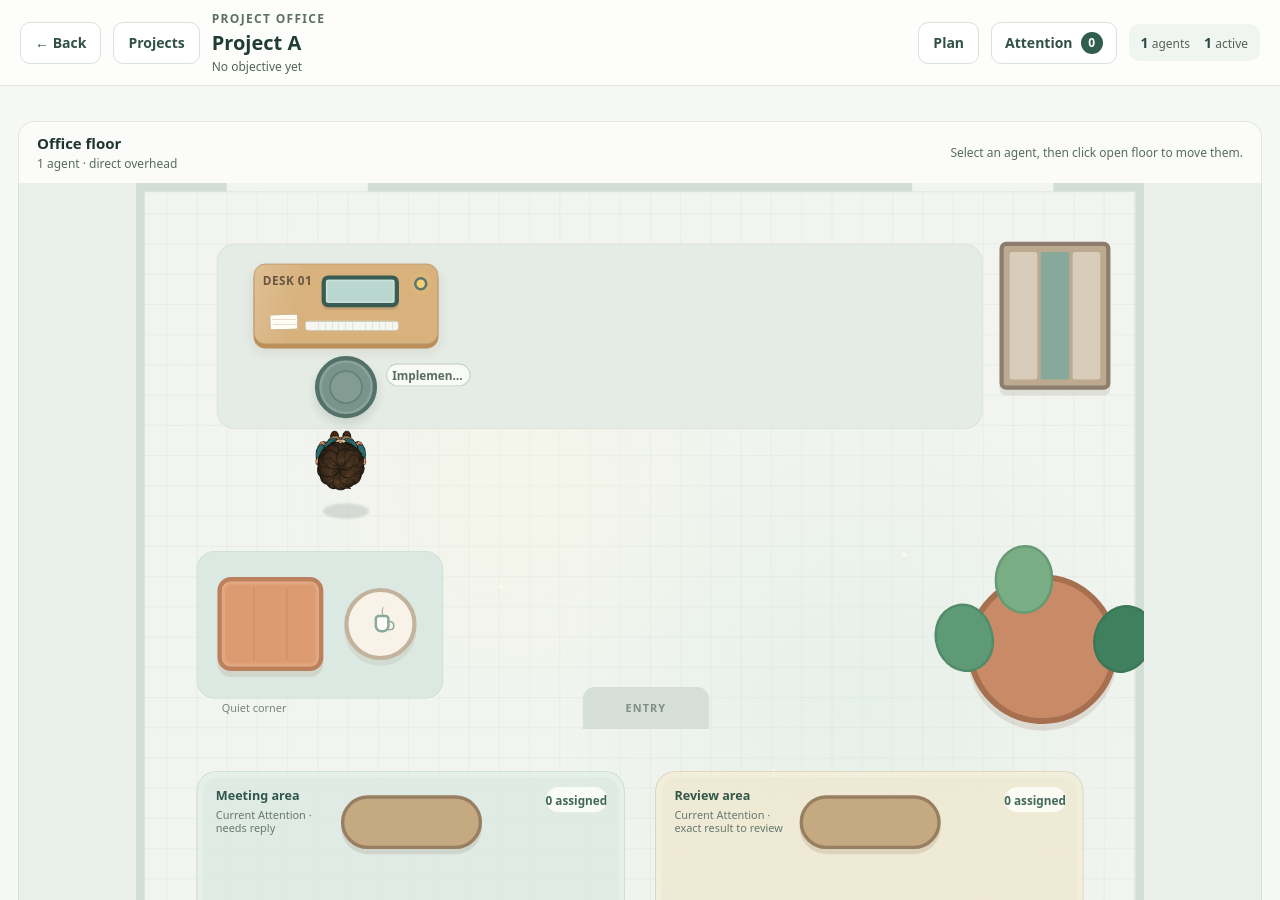
Test: top-down product selection › keeps cross-project actions out and opens an archived result only in its original project
Click the button named "Attention for Project A, 0 actions, 0 replies needed, 0 decisions needed, 0 unread results" at {"x": 1054, "y": 42}, box top-left (991, 22), bottom-right (1117, 64)
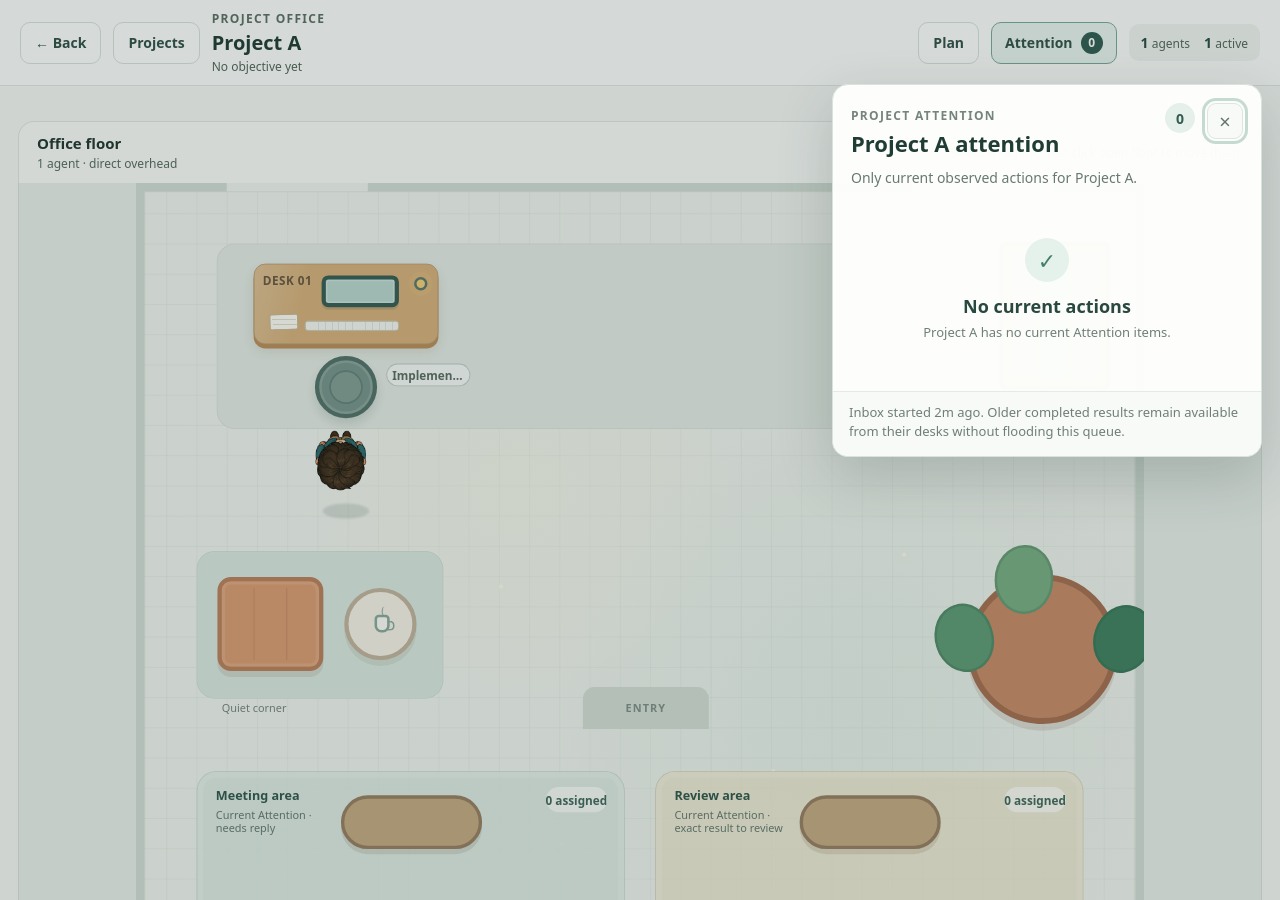
Expected: the text "Archived Project B result" is not shown
Now the dialog shows "No current actions", box top-left (963, 294), bottom-right (1131, 318)
Click the button named "Close attention inbox" at {"x": 1225, "y": 121}, box top-left (1207, 103), bottom-right (1243, 139)
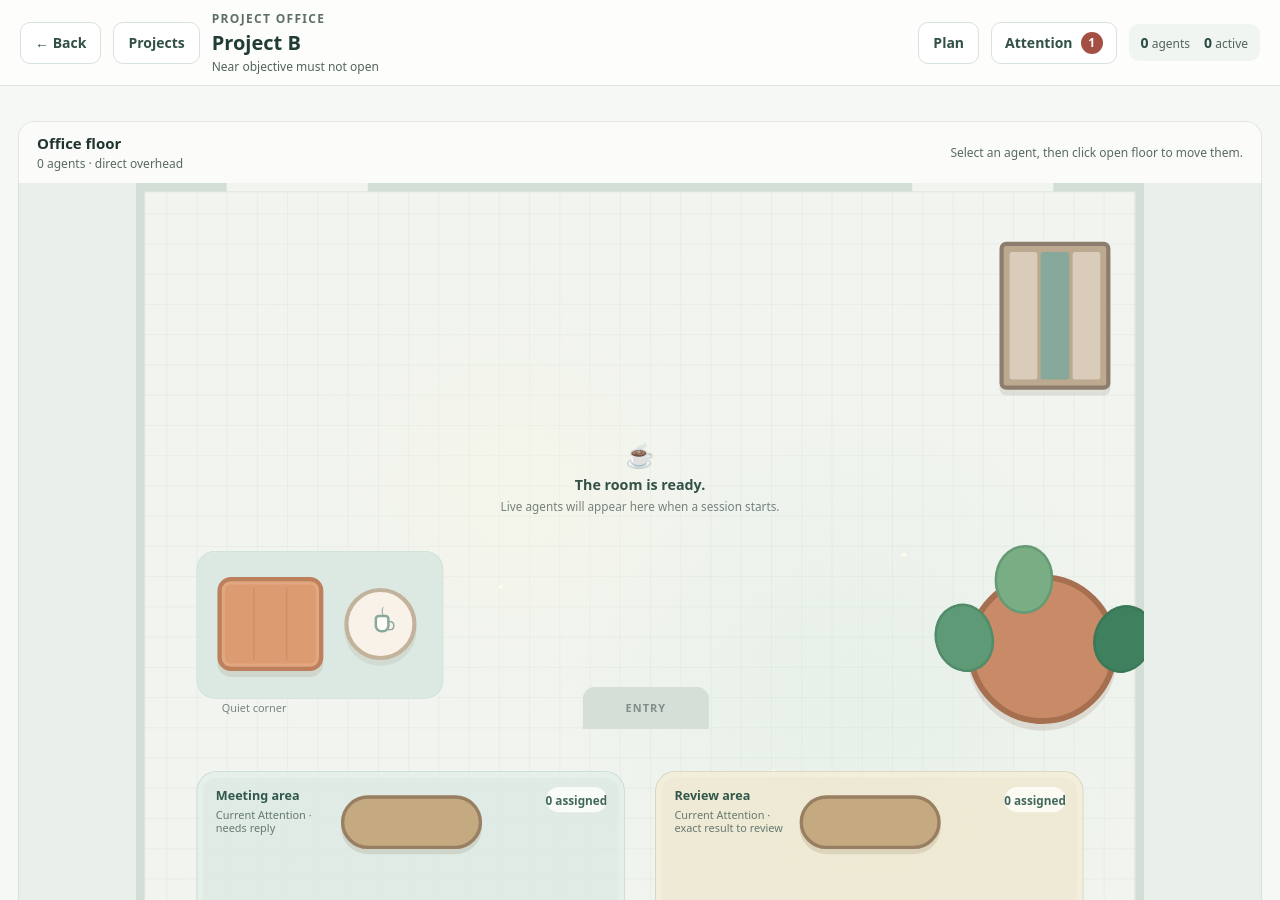
Now the button named "Attention for Project B, 1 action, 0 replies needed, 0 decisions needed, 0 unread results" has attribute data-attention-count="1"
Click the button named "Attention for Project B, 1 action, 0 replies needed, 0 decisions needed, 0 unread results" at {"x": 1054, "y": 42}, box top-left (991, 22), bottom-right (1117, 64)
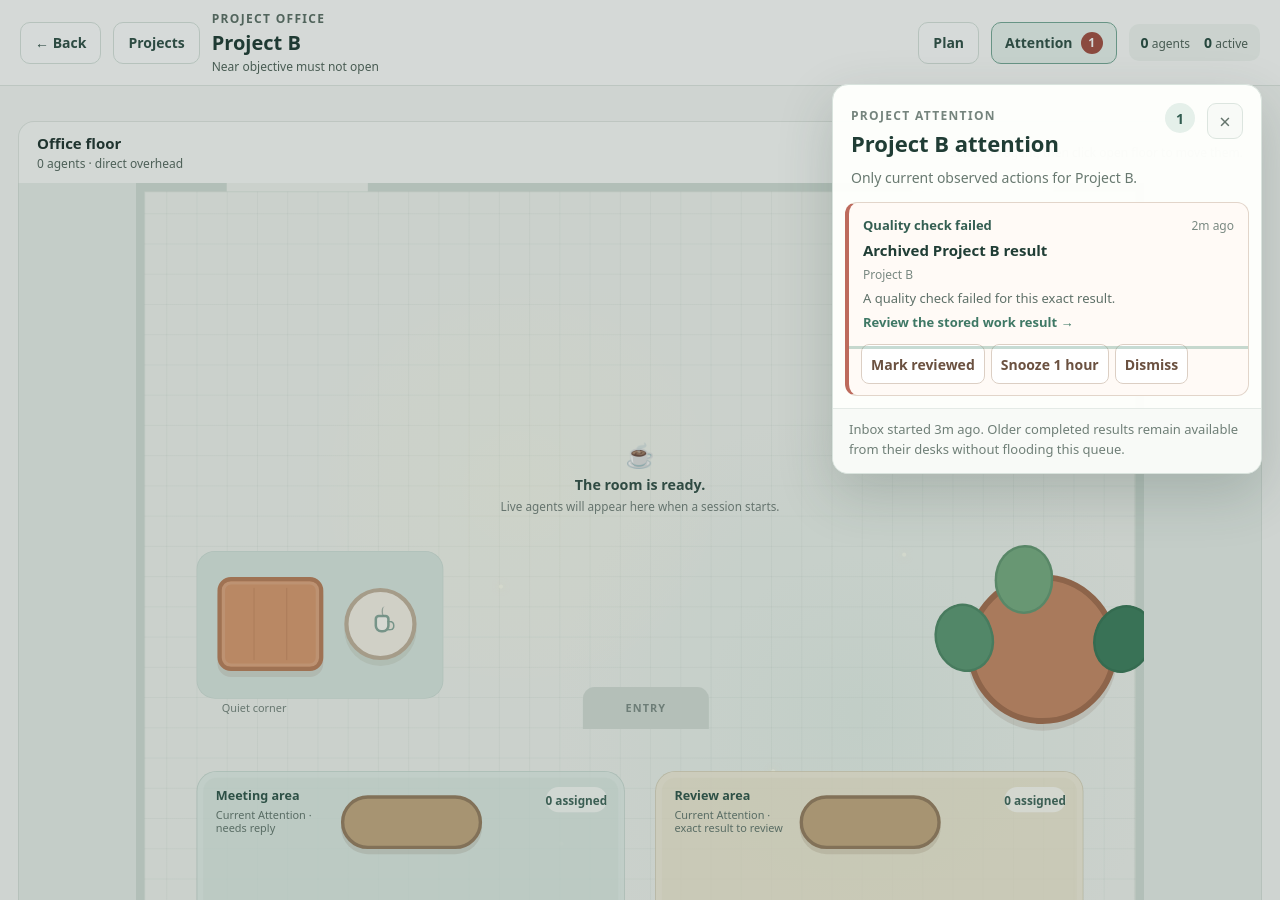
Click the button that starts with "Quality check failed" at {"x": 927, "y": 225}, box top-left (849, 203), bottom-right (1248, 344)
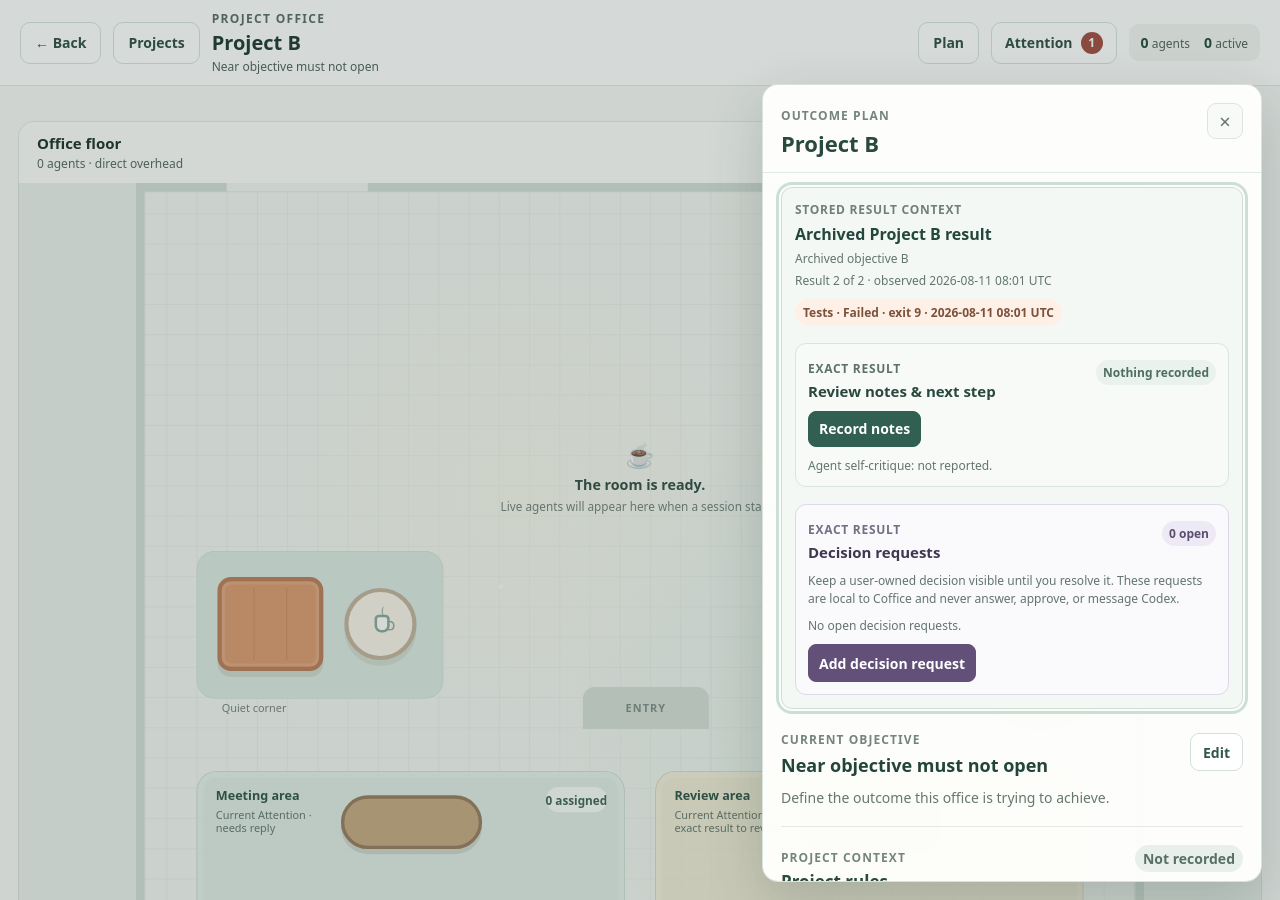
Now the dialog is shown, box top-left (762, 84), bottom-right (1262, 882)
Now the element that starts with "Stored result context" shows "Archived Project B result", box top-left (795, 223), bottom-right (992, 245)
Now the element that starts with "Stored result context" shows "Archived objective B", box top-left (795, 250), bottom-right (908, 267)
